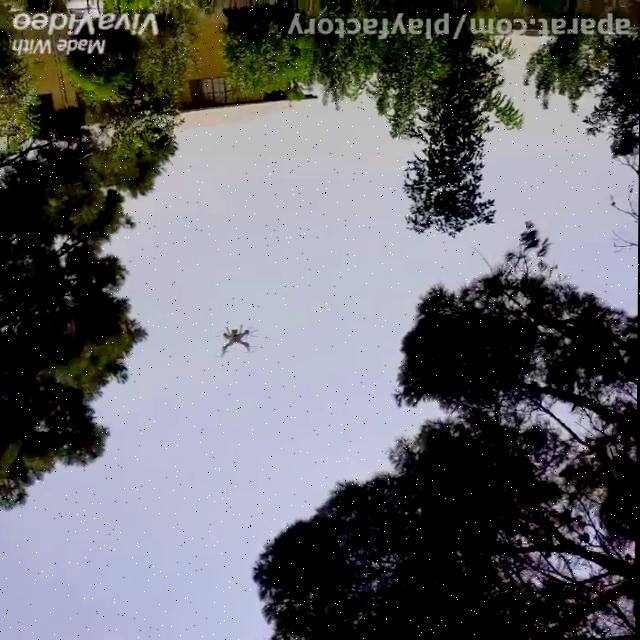drone: (213, 324, 263, 364)
